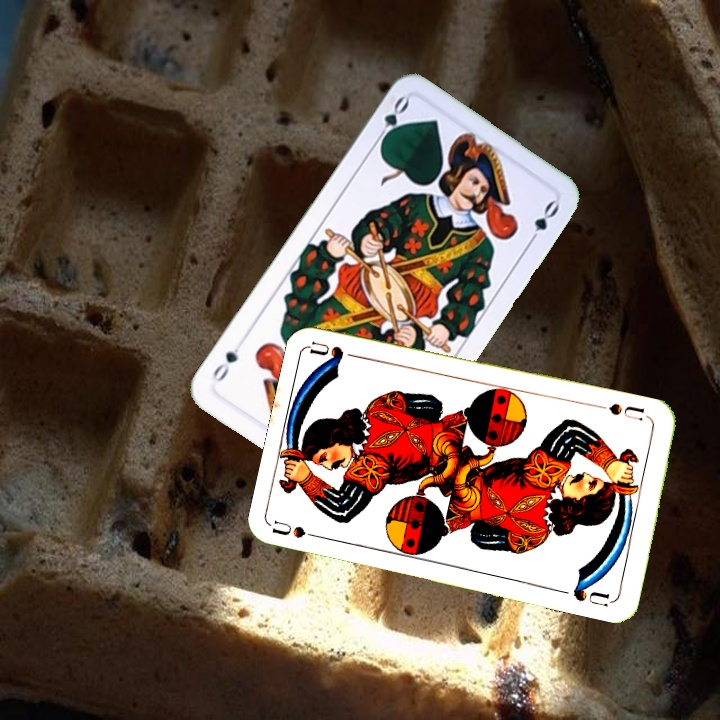GO: (371, 92, 412, 149)
SU: (270, 516, 330, 543), (604, 399, 647, 423)
